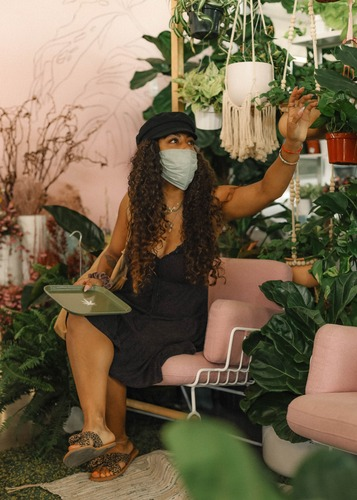with_mask: (159, 130, 197, 179)
